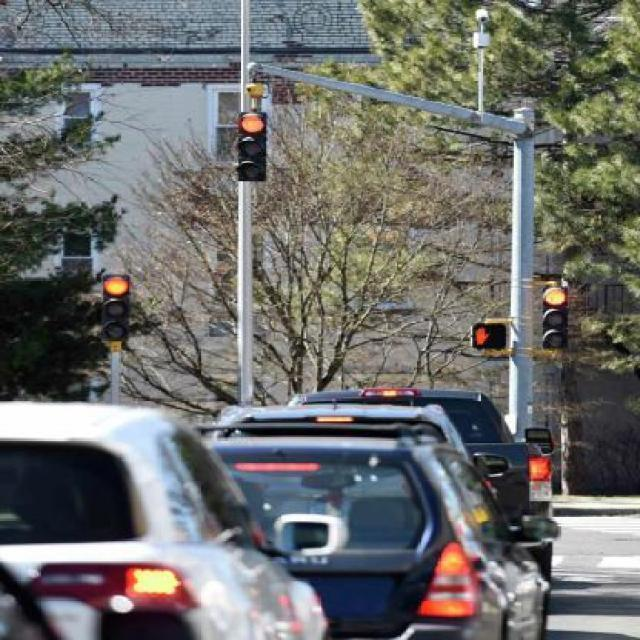red_light: (206, 87, 305, 204), (532, 276, 580, 362), (97, 269, 145, 342)
